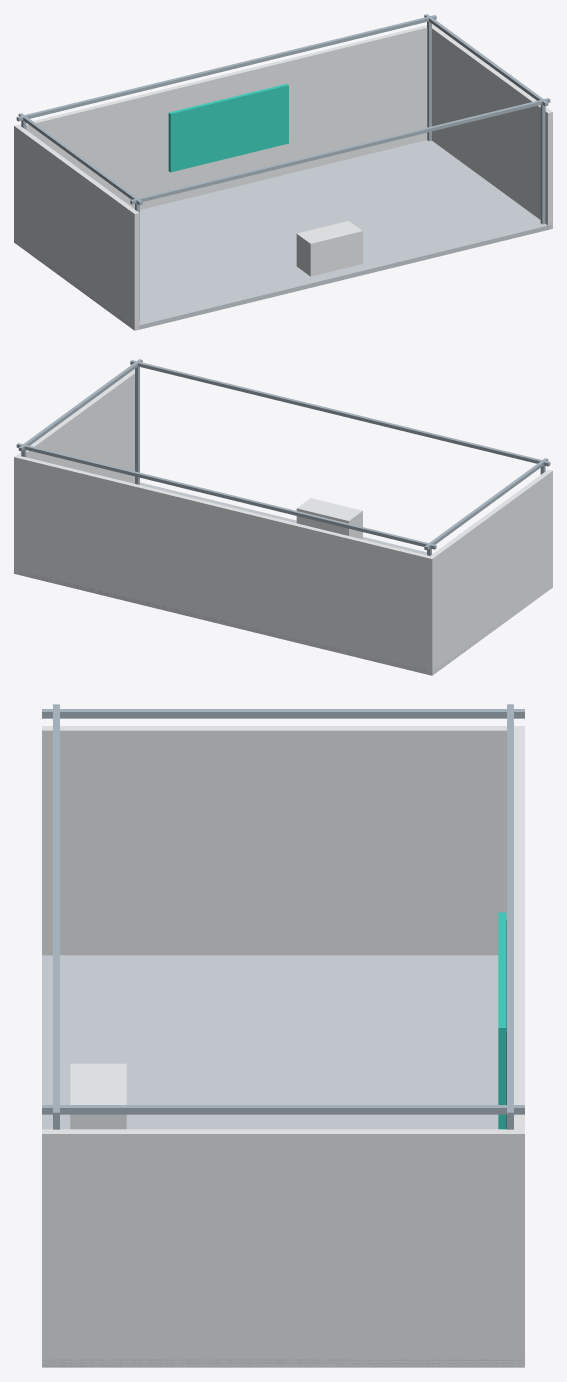
3 views of the same model, one above another, from view 1: azimuth 30°, elevation 25°; view 2: azimuth 150°, elevation 25°; view 3: azimuth 270°, elevation 25° (orthographic). The views are drawn at different scales.
Parts seen in each view (by area): view 1: Exhibition Booth Concept; view 2: Exhibition Booth Concept; view 3: Exhibition Booth Concept.
Part boxes in pixels (x1=…): Exhibition Booth Concept: x1=14, y1=14, x2=552, y2=330; Exhibition Booth Concept: x1=14, y1=359, x2=552, y2=675; Exhibition Booth Concept: x1=42, y1=704, x2=524, y2=1367.
Size of the model in its own units: 12 by 3.49 by 6.
